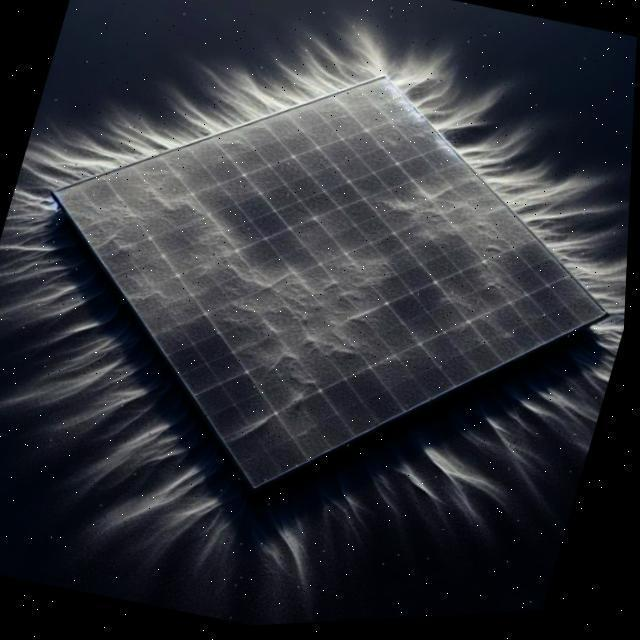Anomaly Solar Panel: (58, 0, 610, 544)
Surface Contaminant: (59, 74, 493, 505), (369, 135, 579, 324)
